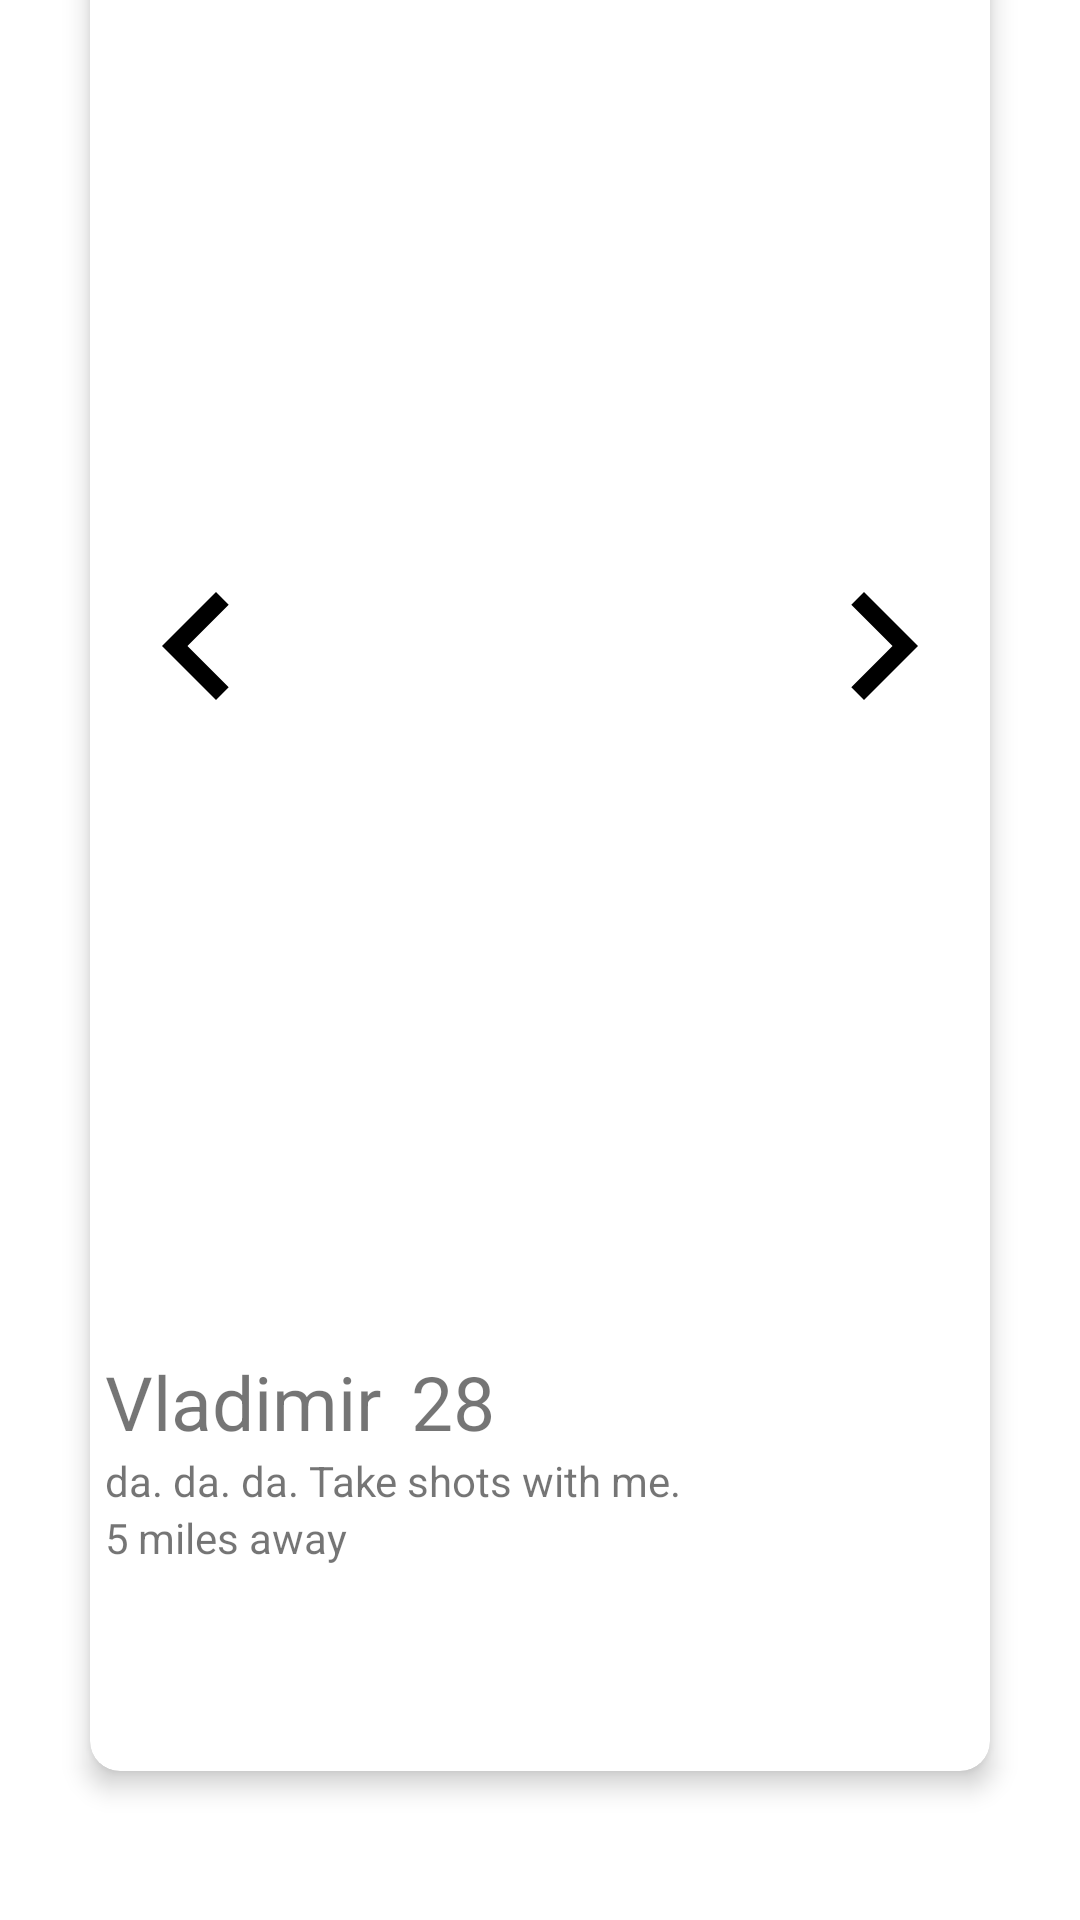

Named icons in this screenshot (1080x1920) and their centers, (x,y):
chevron left: (195,646)
chevron right: (884,646)
